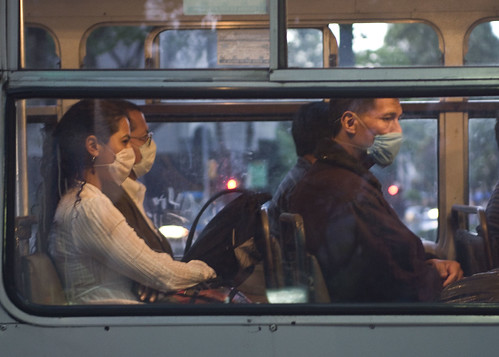mask: (370, 128, 405, 172), (108, 148, 133, 190), (133, 141, 162, 177)
